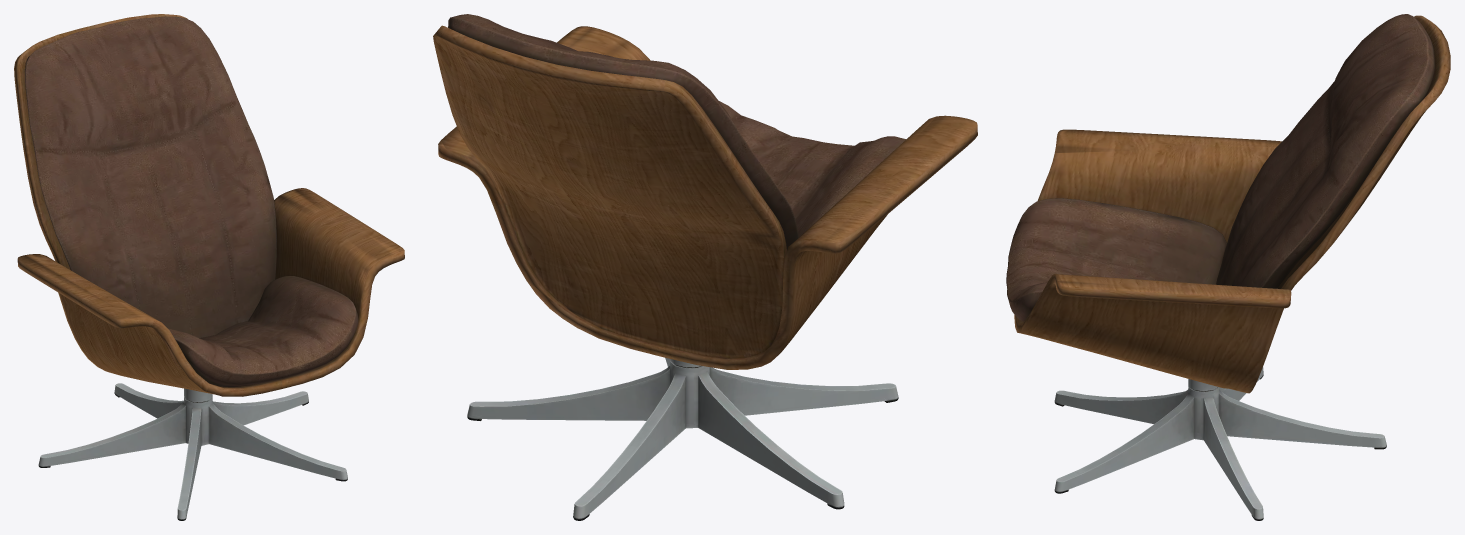
The picture shows the model from 3 angles, left to right: view 1: azimuth 30°, elevation 25°; view 2: azimuth 150°, elevation 25°; view 3: azimuth 270°, elevation 25°; orthographic projection. The views are drawn at different scales.
Parts seen in each view (by area): view 1: mid_century_lounge_chair; view 2: mid_century_lounge_chair; view 3: mid_century_lounge_chair.
Boxes of the visible parts, x1,y1,x2,y2 form: mid_century_lounge_chair: [14, 14, 404, 520]; mid_century_lounge_chair: [433, 14, 977, 520]; mid_century_lounge_chair: [1006, 14, 1450, 520].
Size of the model in its own units: 1.01 by 1.17 by 1.19.
Materials: 1 (1 with a texture image).
